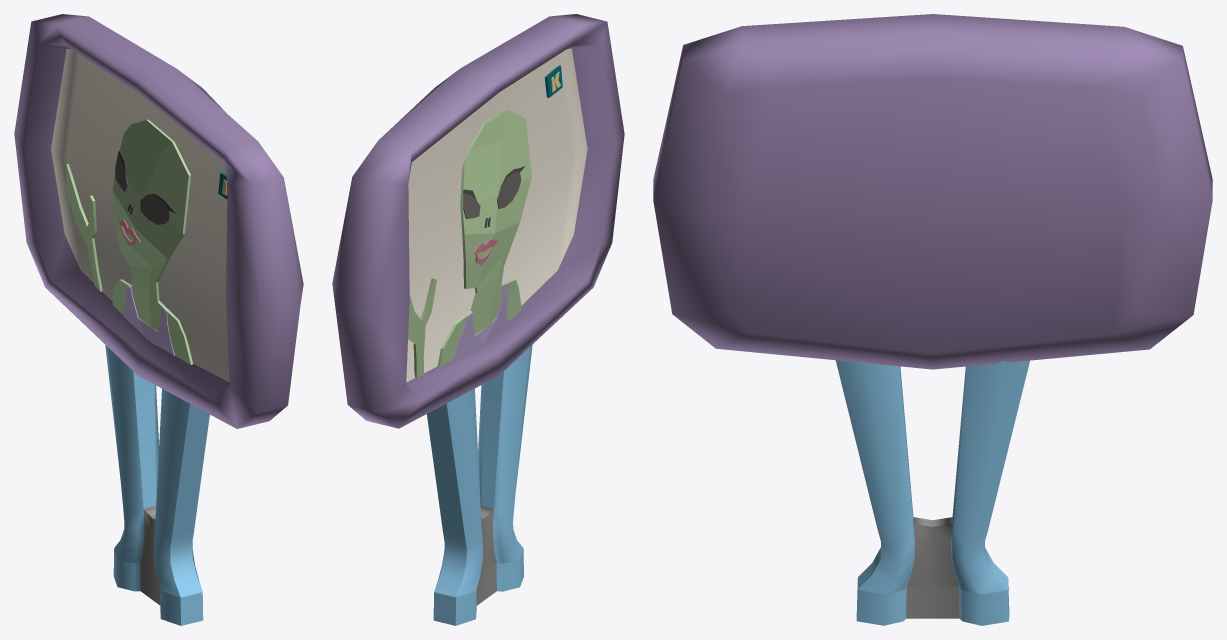
File: Billboard_2.fbx
3 views of the same model, side by side, from view 1: azimuth 30°, elevation 25°; view 2: azimuth 150°, elevation 25°; view 3: azimuth 270°, elevation 25° (orthographic). The views are drawn at different scales.
Visible parts, largest first — view 1: Billboard_2; view 2: Billboard_2; view 3: Billboard_2.
Boxes of the visible parts, x1=… form: Billboard_2: x1=14, y1=14, x2=303, y2=625; Billboard_2: x1=332, y1=14, x2=624, y2=625; Billboard_2: x1=653, y1=14, x2=1212, y2=625.
Bounding box in the file's own units: 88.06 × 418 × 486.
